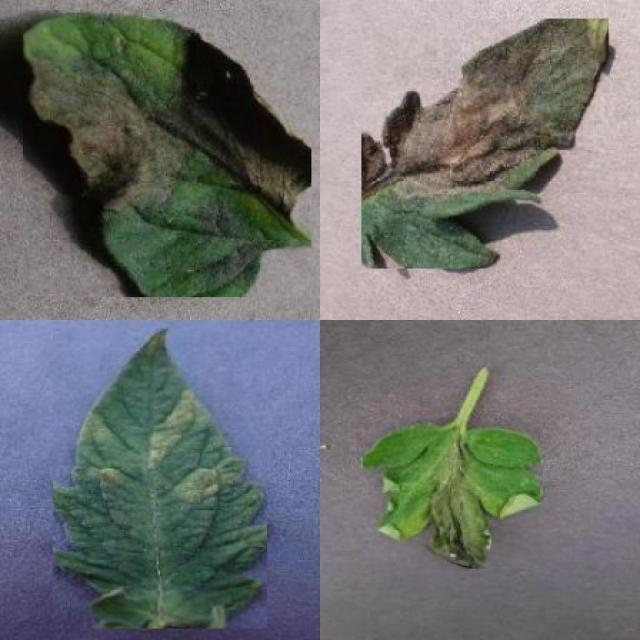Late Blight: (22, 12, 312, 298), (362, 18, 608, 268), (363, 418, 544, 568)
Leaf Mold: (53, 328, 268, 628)
